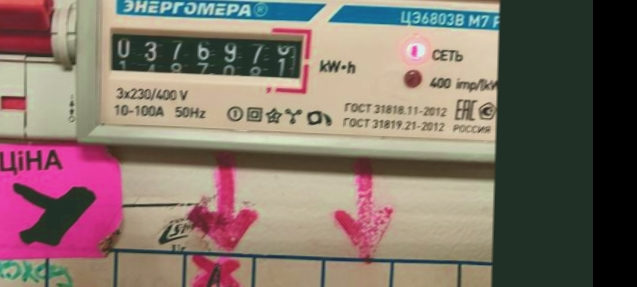0: (115, 36, 131, 58)
1: (275, 56, 285, 78)
3: (143, 40, 156, 61)
6: (195, 37, 211, 61)
7: (169, 38, 184, 61), (249, 40, 263, 63)
9: (222, 40, 236, 62)
screen: (98, 18, 314, 97)
